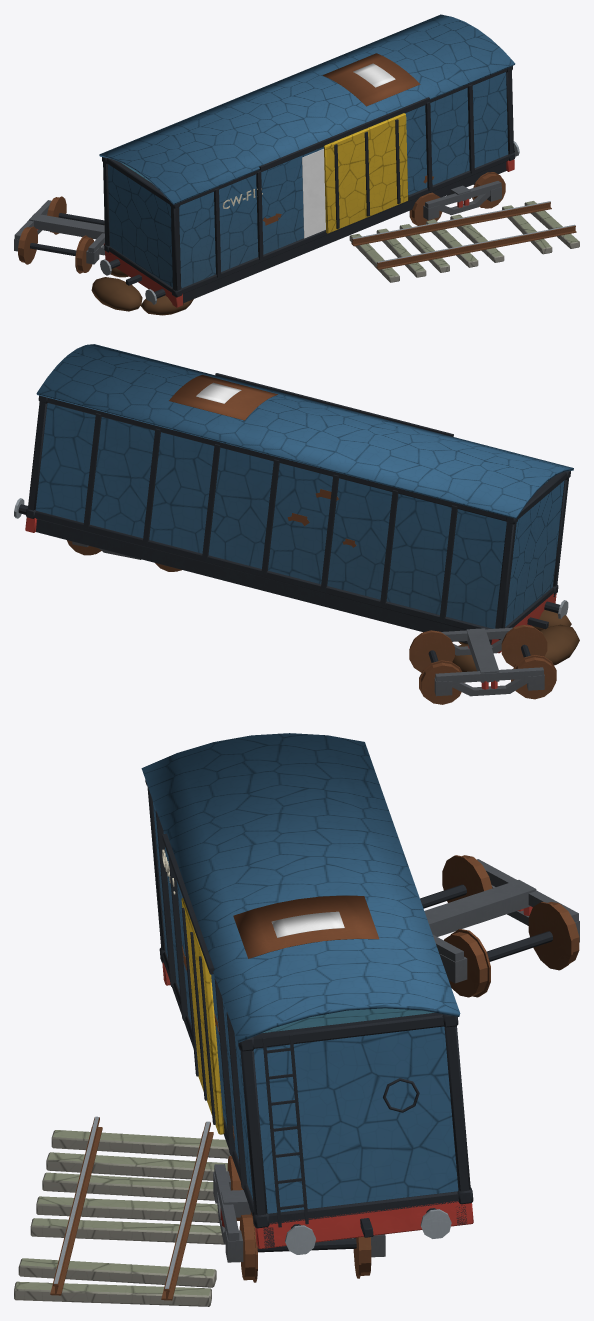
The model's file is train_wagon_wreck.glb.
3 views of the same model, one above another, from view 1: azimuth 30°, elevation 25°; view 2: azimuth 150°, elevation 25°; view 3: azimuth 270°, elevation 25° (orthographic). The views are drawn at different scales.
Parts seen in each view (by area): view 1: train_wagon_wreck; view 2: train_wagon_wreck; view 3: train_wagon_wreck.
Boxes of the visible parts, x1=… form: train_wagon_wreck: x1=14, y1=14, x2=579, y2=315; train_wagon_wreck: x1=14, y1=344, x2=579, y2=704; train_wagon_wreck: x1=14, y1=733, x2=579, y2=1306.
Bounding box in the file's own units: 12.39 × 4.46 × 7.27.
Materials: 17 (17 with a texture image).
